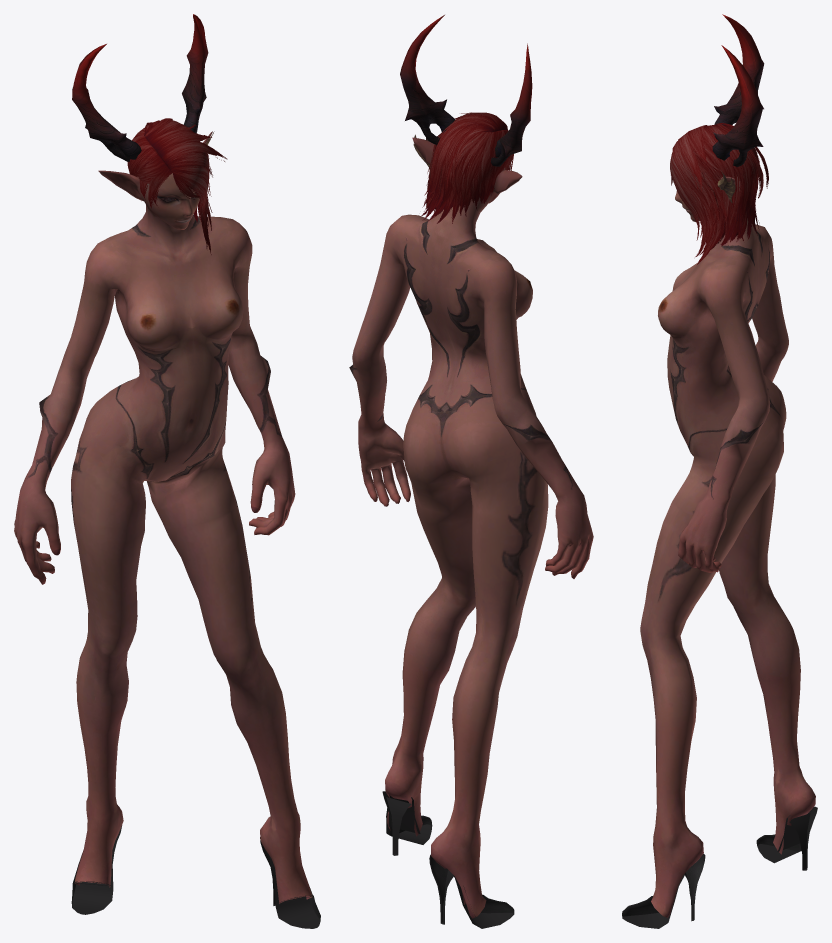
File: NSFW.glb
The picture shows the model from 3 angles, left to right: view 1: azimuth 30°, elevation 25°; view 2: azimuth 150°, elevation 25°; view 3: azimuth 270°, elevation 25°; orthographic projection. The views are drawn at different scales.
Visible parts, largest first — view 1: Asset3DLoader.sceneRoot; view 2: Asset3DLoader.sceneRoot; view 3: Asset3DLoader.sceneRoot.
Part boxes in pixels (left/top/right/bottom): Asset3DLoader.sceneRoot: left=14, top=14, right=320, bottom=928; Asset3DLoader.sceneRoot: left=349, top=15, right=593, bottom=928; Asset3DLoader.sceneRoot: left=622, top=14, right=817, bottom=928.
Bounding box in the file's own units: 12.81 × 43.08 × 9.05.
Materials: 5 (5 with a texture image).
